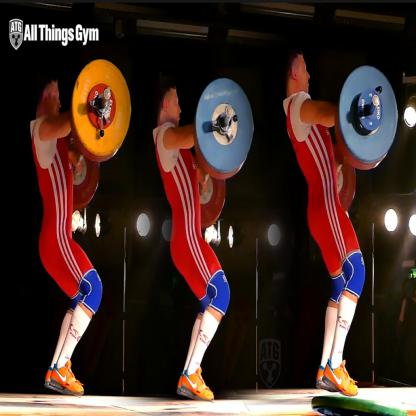Barbell: (334, 59, 402, 171), (193, 72, 257, 179), (70, 55, 132, 162)
